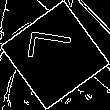L_E: (27, 36, 83, 74)
